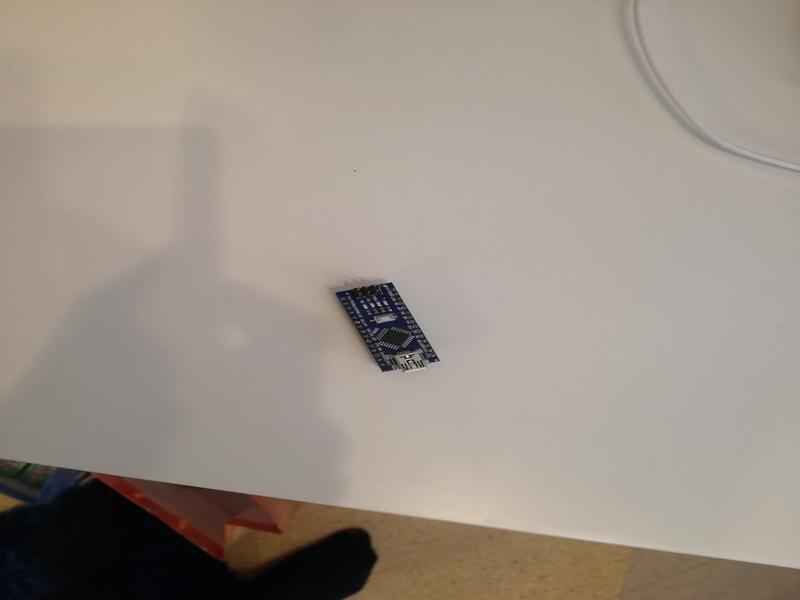Arduino_Nano: (333, 277, 446, 377)
